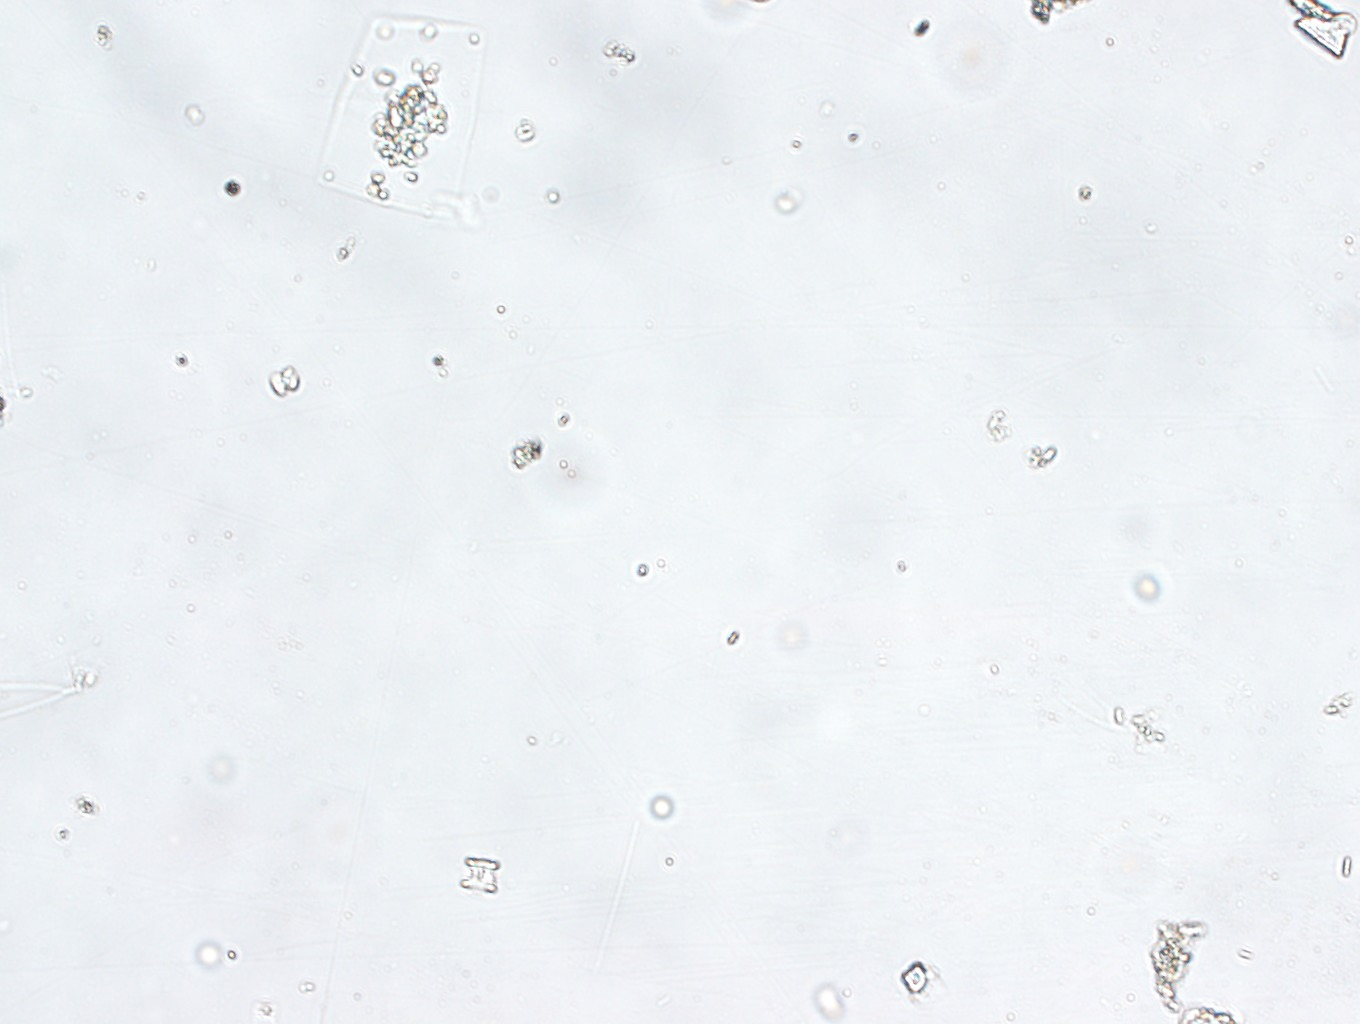helicotheca: (305, 2, 497, 240)
